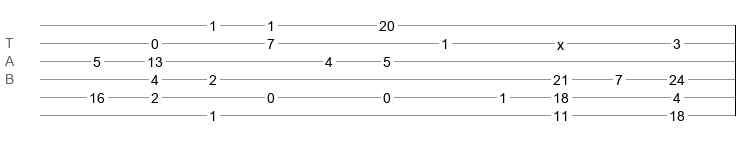0: (151, 36, 159, 46), (267, 90, 275, 100), (383, 90, 391, 100)
1: (209, 18, 217, 28), (209, 108, 217, 118), (267, 18, 275, 28), (441, 36, 449, 46), (499, 90, 507, 100)
11: (553, 108, 569, 118)
13: (147, 54, 163, 64)
16: (89, 90, 105, 100)
18: (553, 90, 569, 100), (669, 108, 685, 118)
2: (151, 90, 159, 100), (209, 72, 217, 82)
20: (379, 18, 395, 28)
21: (553, 72, 569, 82)
24: (669, 72, 685, 82)
3: (673, 36, 681, 46)
4: (151, 72, 159, 82), (325, 54, 333, 64), (673, 90, 681, 100)
5: (93, 54, 101, 64), (383, 54, 391, 64)
7: (267, 36, 275, 46), (615, 72, 623, 82)
x: (557, 37, 564, 45)
